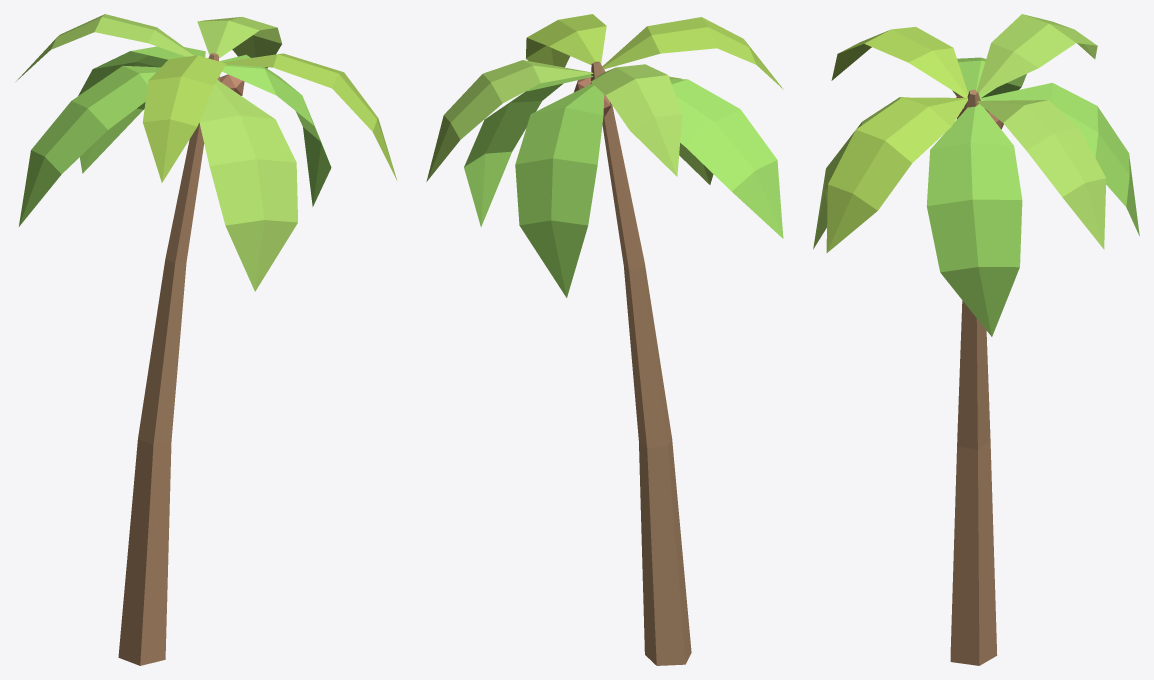
Rendered from Palm_Tree_Coconut_OneSided_m_02_LOD.fbx.
3 renders of one model, left to right at view 1: azimuth 30°, elevation 25°; view 2: azimuth 150°, elevation 25°; view 3: azimuth 270°, elevation 25°, orthographic. The views are drawn at different scales.
Parts seen in each view (by area): view 1: Palm_Tree_Coconut_OneSided_m_02_LOD0; view 2: Palm_Tree_Coconut_OneSided_m_02_LOD0; view 3: Palm_Tree_Coconut_OneSided_m_02_LOD0.
Boxes of the visible parts, box(x1,y1,x2,y2) form: Palm_Tree_Coconut_OneSided_m_02_LOD0: box(16, 14, 397, 665); Palm_Tree_Coconut_OneSided_m_02_LOD0: box(426, 14, 783, 665); Palm_Tree_Coconut_OneSided_m_02_LOD0: box(813, 14, 1139, 665).
Size of what is drawn, in the model's own units: 334 by 630 by 296.
